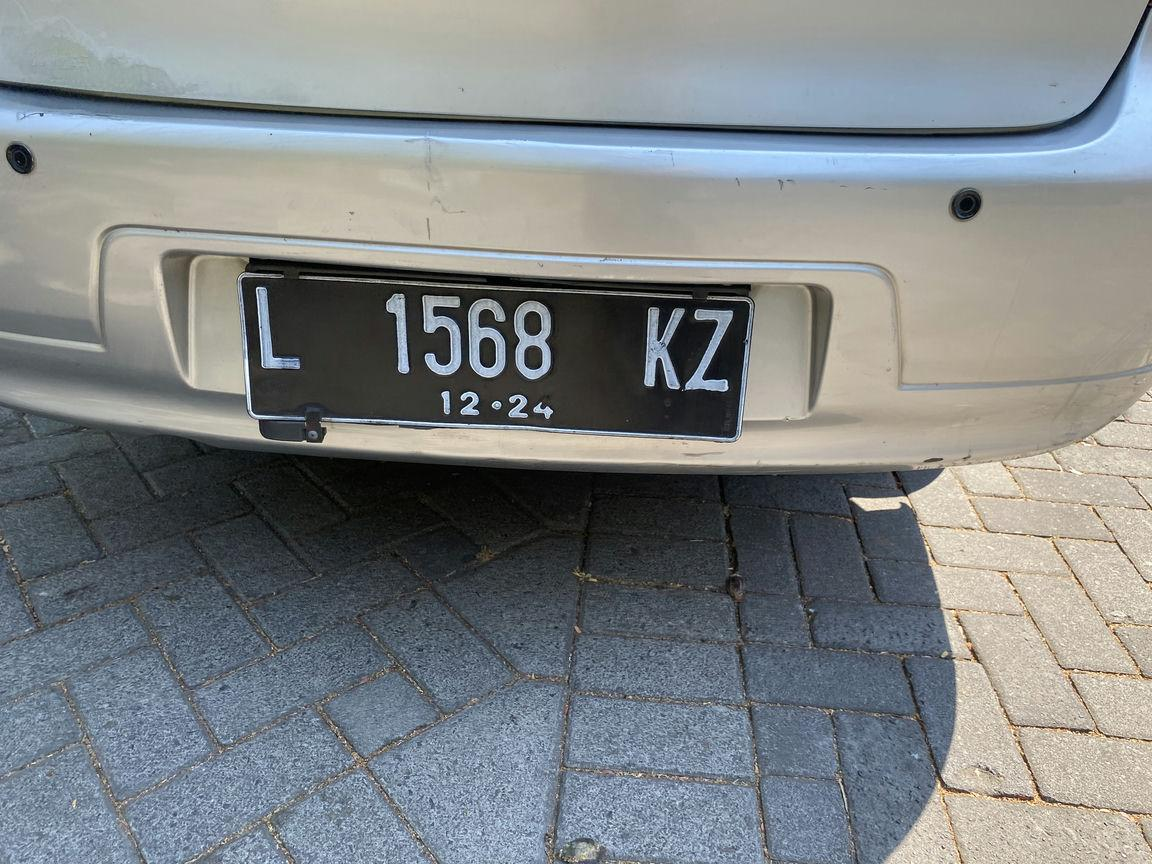plat: (238, 272, 754, 443)
